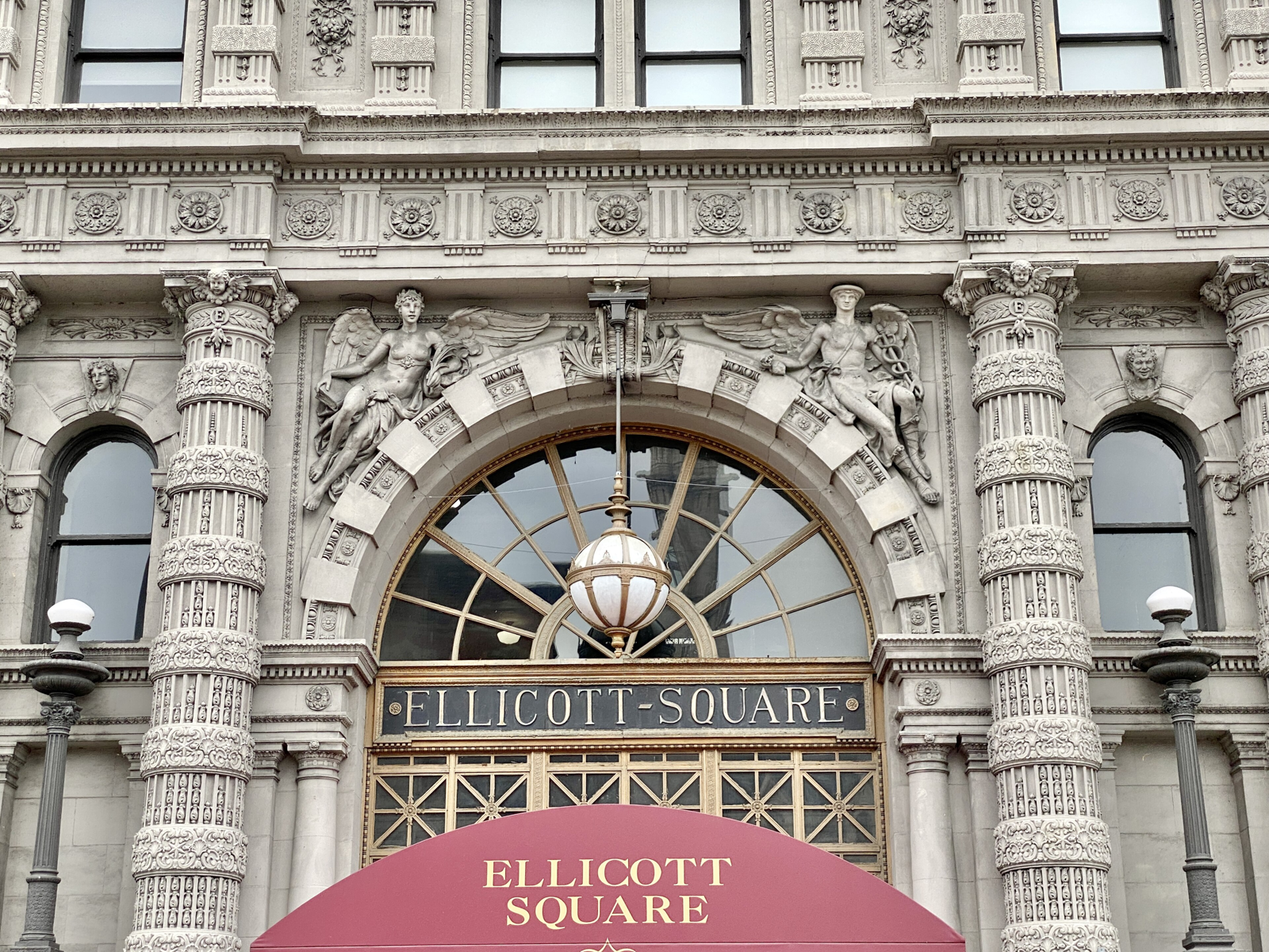fachada: (0, 0, 1269, 952)
poste: (1113, 555, 1269, 947), (24, 579, 127, 952)
